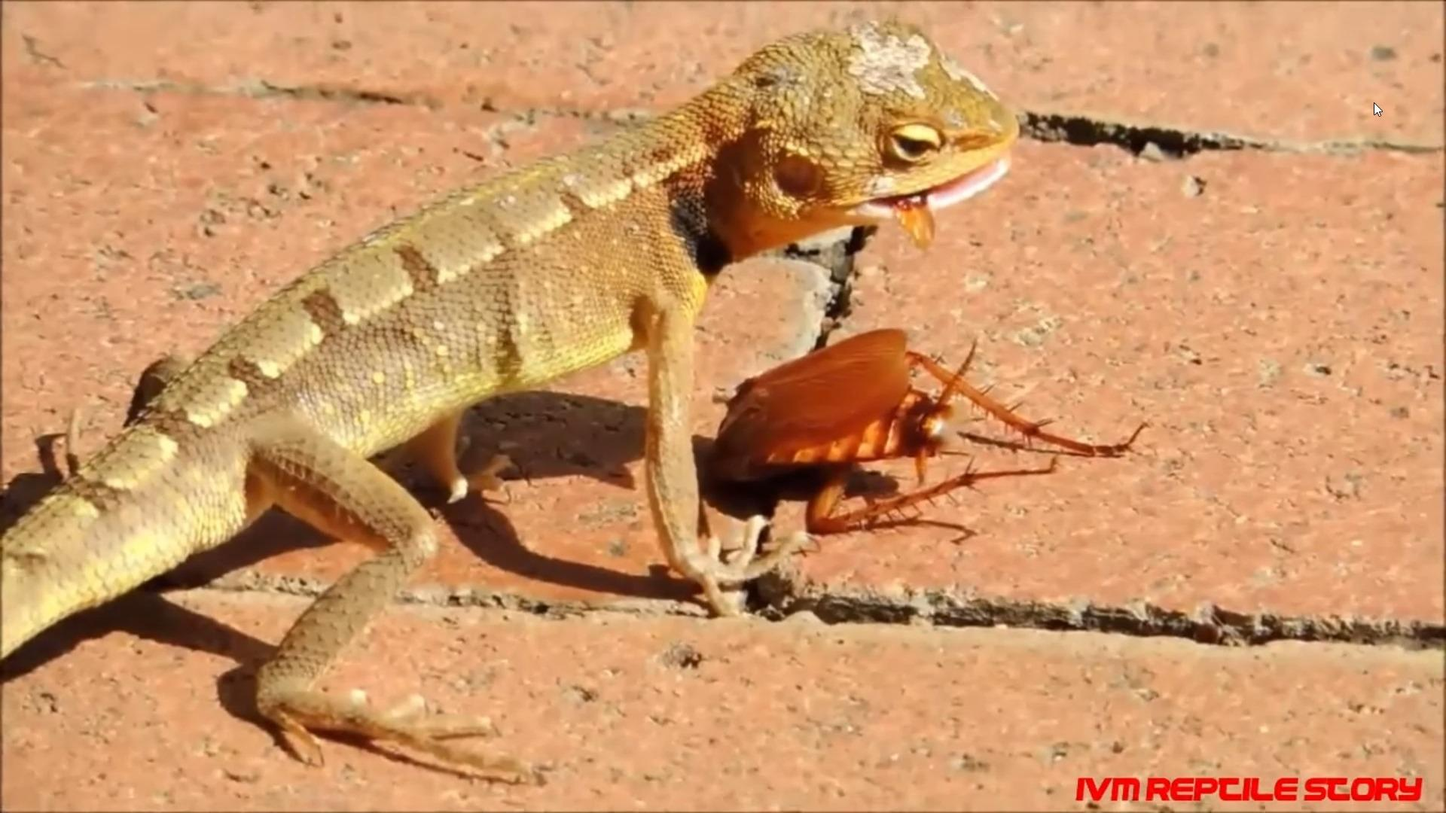cockroach: (729, 330, 972, 532)
lizard: (68, 16, 1020, 747)
